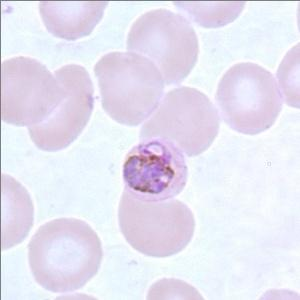Infected: (122, 138, 186, 201)
Uninfected: (27, 63, 94, 152), (127, 8, 200, 85), (29, 216, 101, 293), (142, 86, 218, 157), (93, 50, 164, 126), (118, 191, 194, 257), (217, 62, 282, 135), (0, 57, 65, 127)
